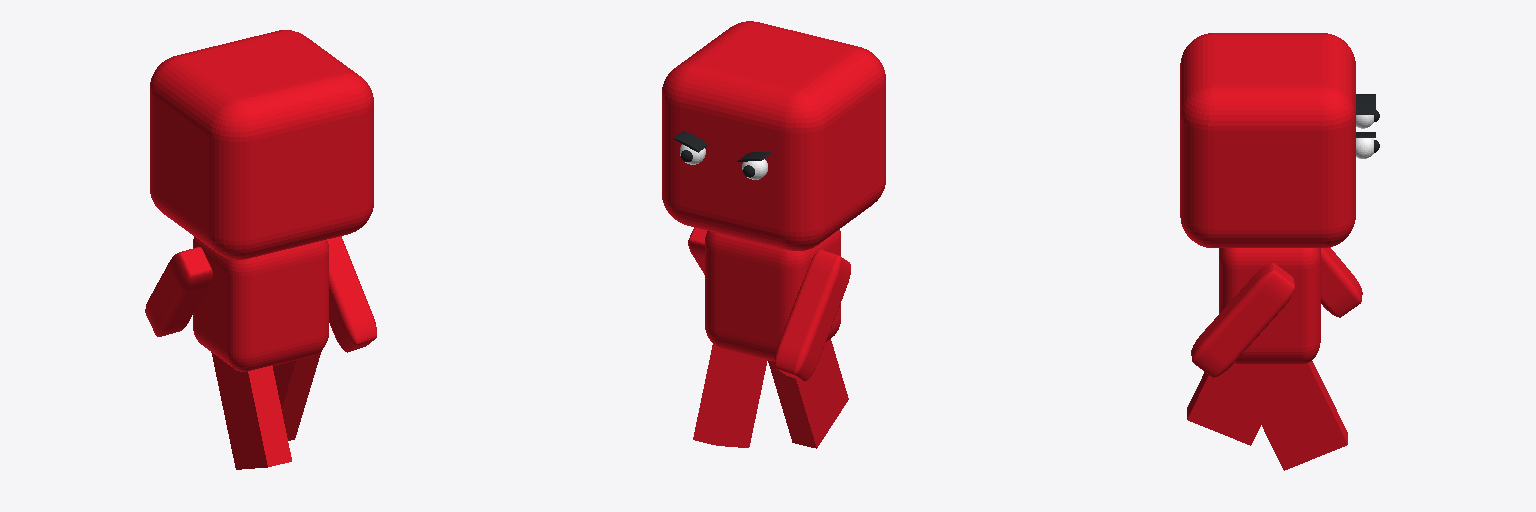
File: tinker.obj
3 views of the same model, side by side, from view 1: azimuth 30°, elevation 25°; view 2: azimuth 150°, elevation 25°; view 3: azimuth 270°, elevation 25° (orthographic).
Parts seen in each view (by area): view 1: obj_0; view 2: obj_0; view 3: obj_0.
Boxes of the visible parts, <box> form: obj_0: <box>145,30,376,469</box>; obj_0: <box>662,21,885,448</box>; obj_0: <box>1180,33,1379,470</box>.
Size of the model in its own units: 12.6 by 29.08 by 13.49.